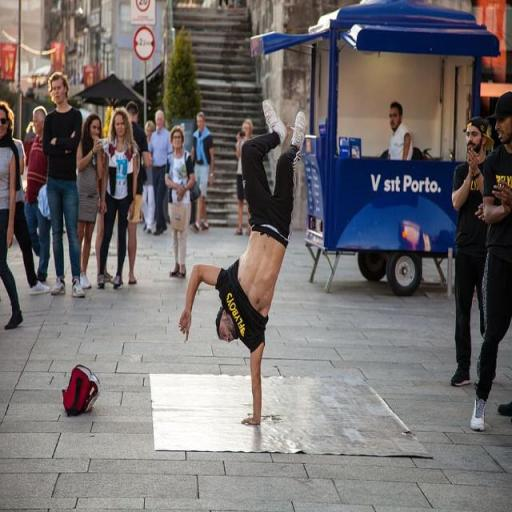person: (179, 101, 312, 436), (471, 90, 512, 433), (450, 115, 491, 391), (45, 74, 91, 299), (101, 108, 141, 289), (119, 100, 156, 288), (1, 101, 25, 331), (76, 115, 107, 289), (165, 128, 195, 280), (28, 107, 53, 284), (190, 112, 217, 233), (151, 108, 175, 238), (233, 119, 256, 237), (141, 119, 158, 237), (385, 103, 415, 162)
